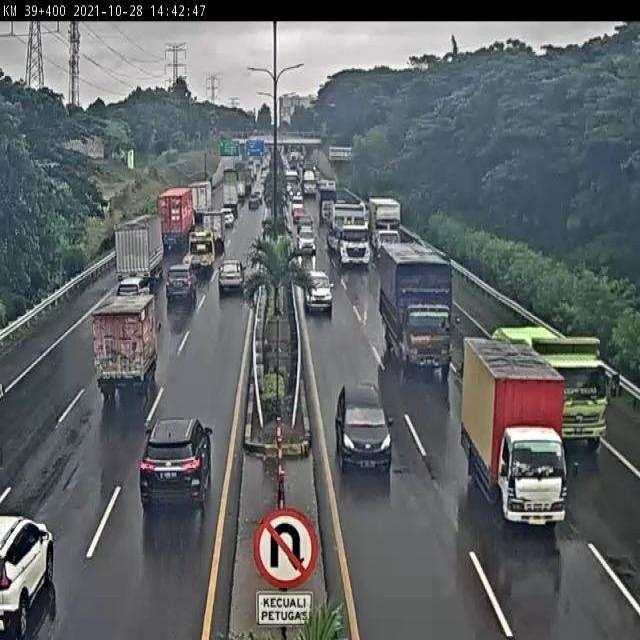big truck: (493, 327, 608, 442), (330, 206, 373, 270), (367, 196, 401, 259)
car: (137, 414, 212, 506), (0, 515, 55, 636), (336, 381, 392, 472), (303, 269, 334, 316), (116, 274, 151, 306), (166, 264, 196, 301), (217, 259, 243, 293), (297, 230, 321, 262)
mid truck: (380, 241, 454, 376), (184, 231, 217, 269), (319, 188, 341, 231)
truck-m-: (463, 331, 566, 521), (96, 298, 164, 406), (115, 213, 164, 284)
